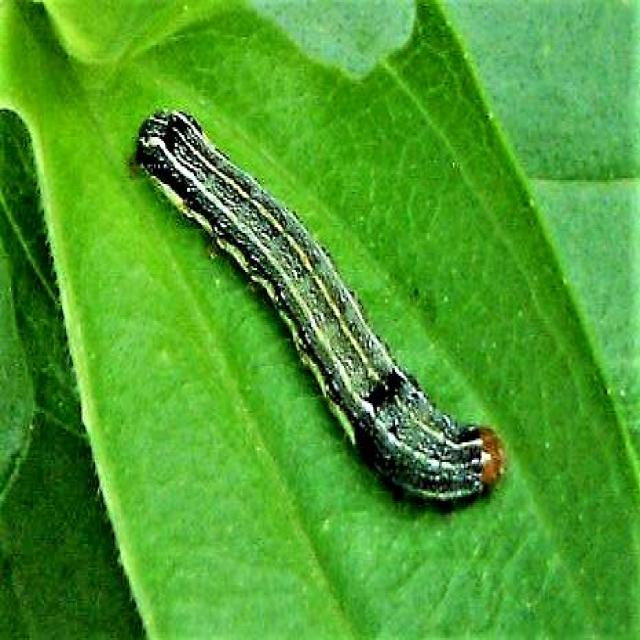Armyworm: (127, 94, 515, 542)
